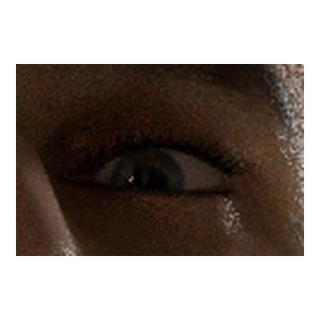pupil: (129, 167, 164, 203)
